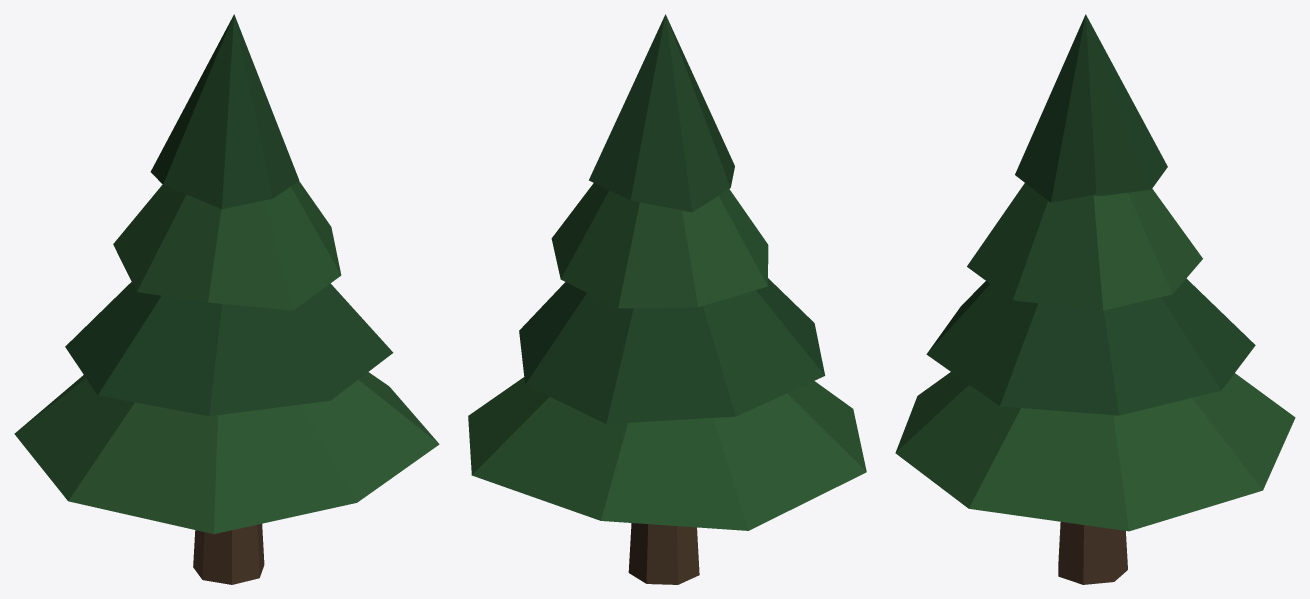
Rendered from PineShort.glb.
3 renders of one model, left to right at view 1: azimuth 30°, elevation 25°; view 2: azimuth 150°, elevation 25°; view 3: azimuth 270°, elevation 25°, orthographic.
Parts seen in each view (by area): view 1: PineShort; view 2: PineShort; view 3: PineShort.
Boxes of the visible parts, box(x1,y1,x2,y2) form: PineShort: box(14, 14, 439, 584); PineShort: box(468, 14, 866, 584); PineShort: box(895, 14, 1295, 584).
Size of the model in its own units: 7.96 by 11.73 by 7.64.
